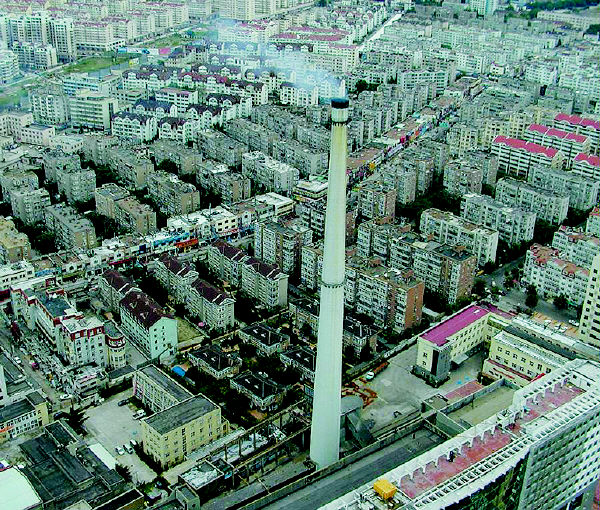dust: (260, 38, 360, 113)
